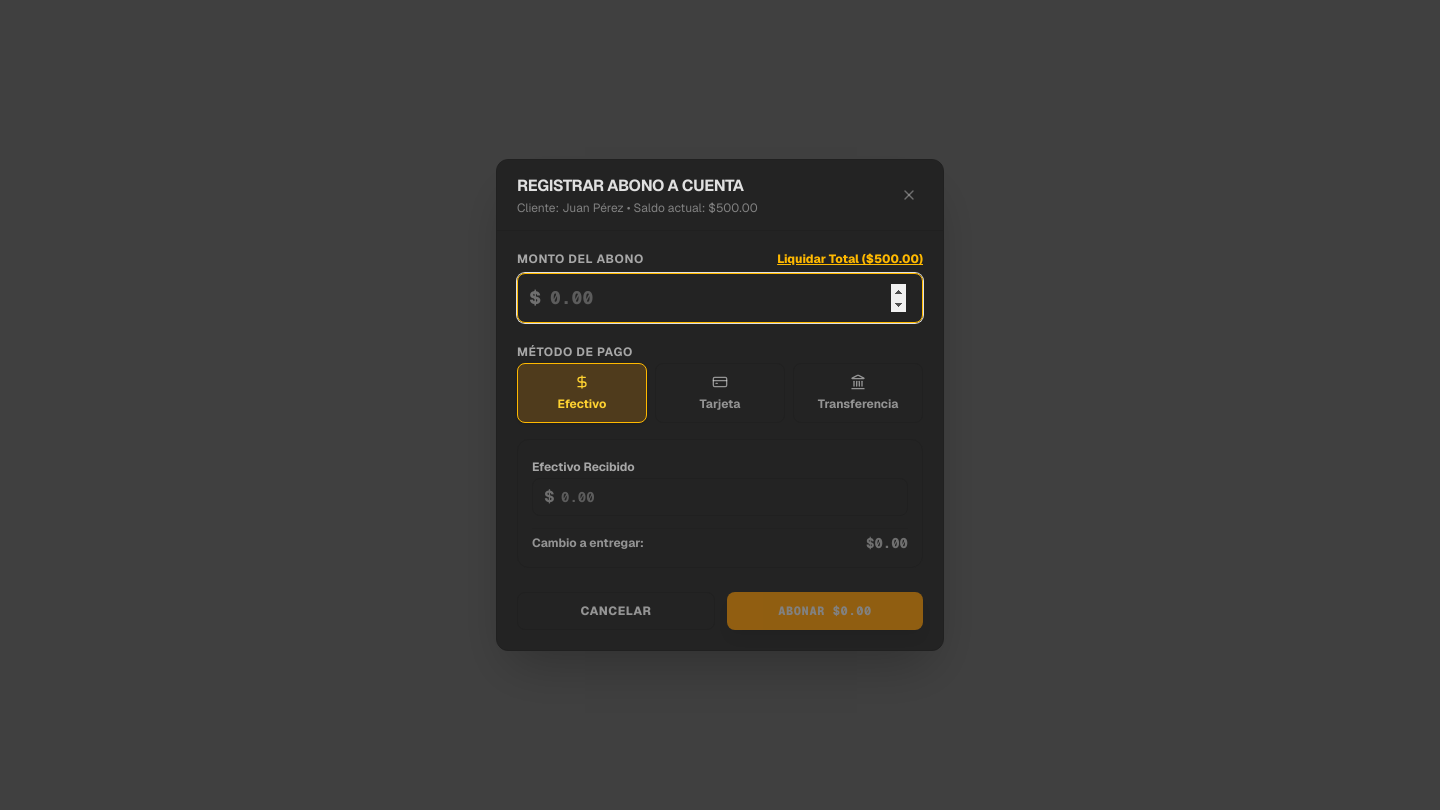
Test: CustomerAbonoModal Component › validates that amount cannot be 0 or negative
This screenshot has width=1440, height=810.
Type "0" into the number field labelled "Monto del Abono" at (720, 298), box left=517, top=273, right=923, bottom=323
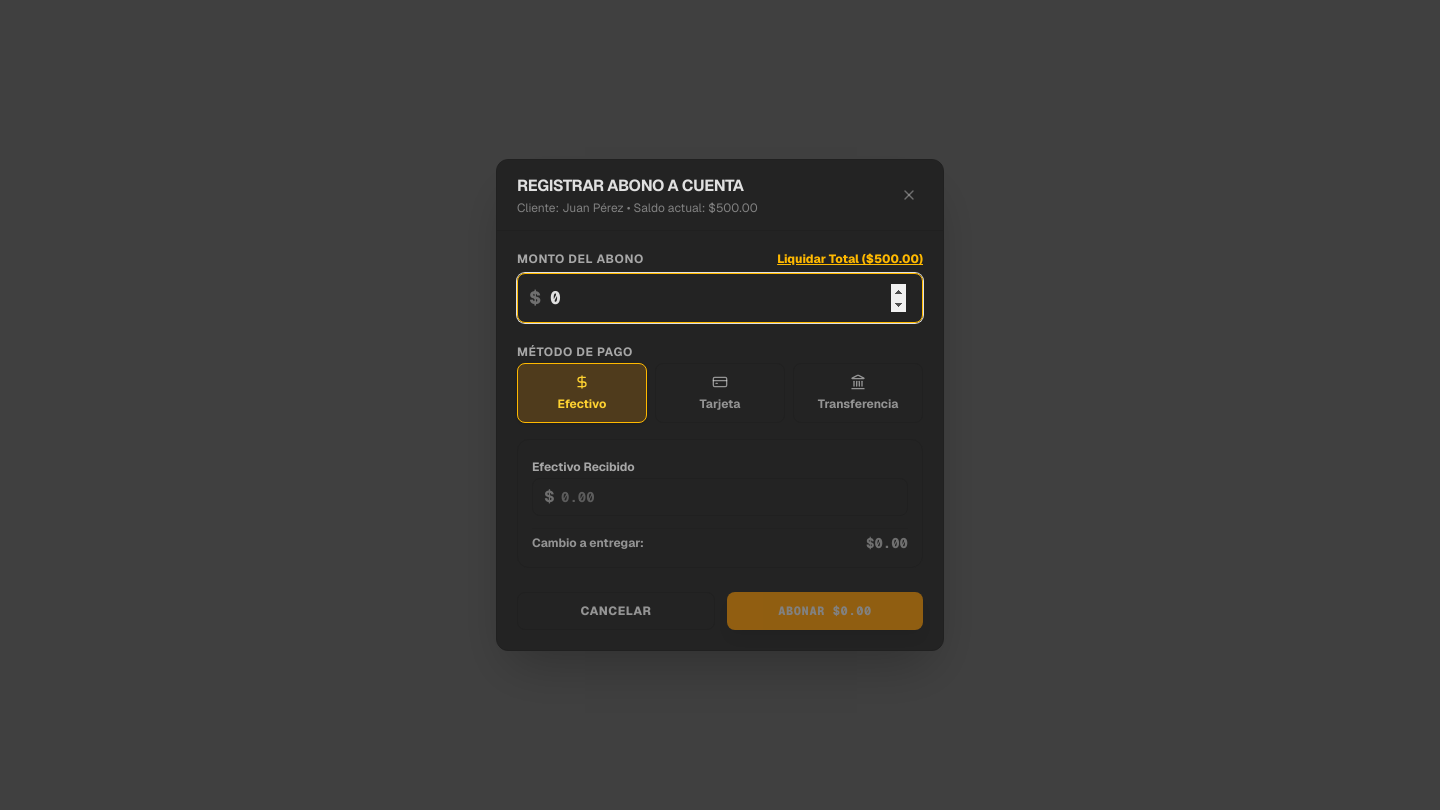
Submit the form labelled "Monto del Abono", box left=517, top=251, right=923, bottom=630
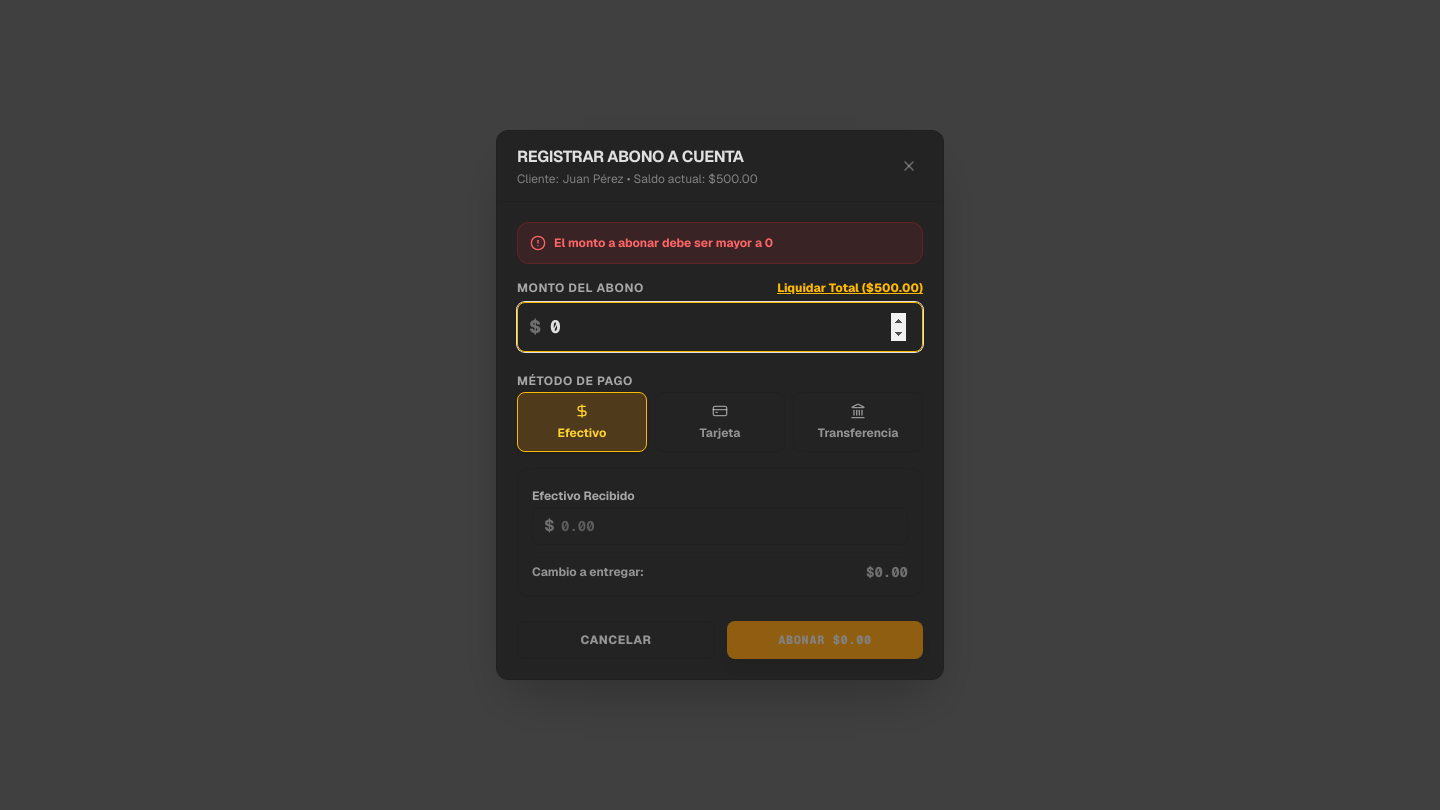
Expected: the text "El monto a abonar debe ser mayor a 0" is shown, left=554, top=235, right=773, bottom=251
